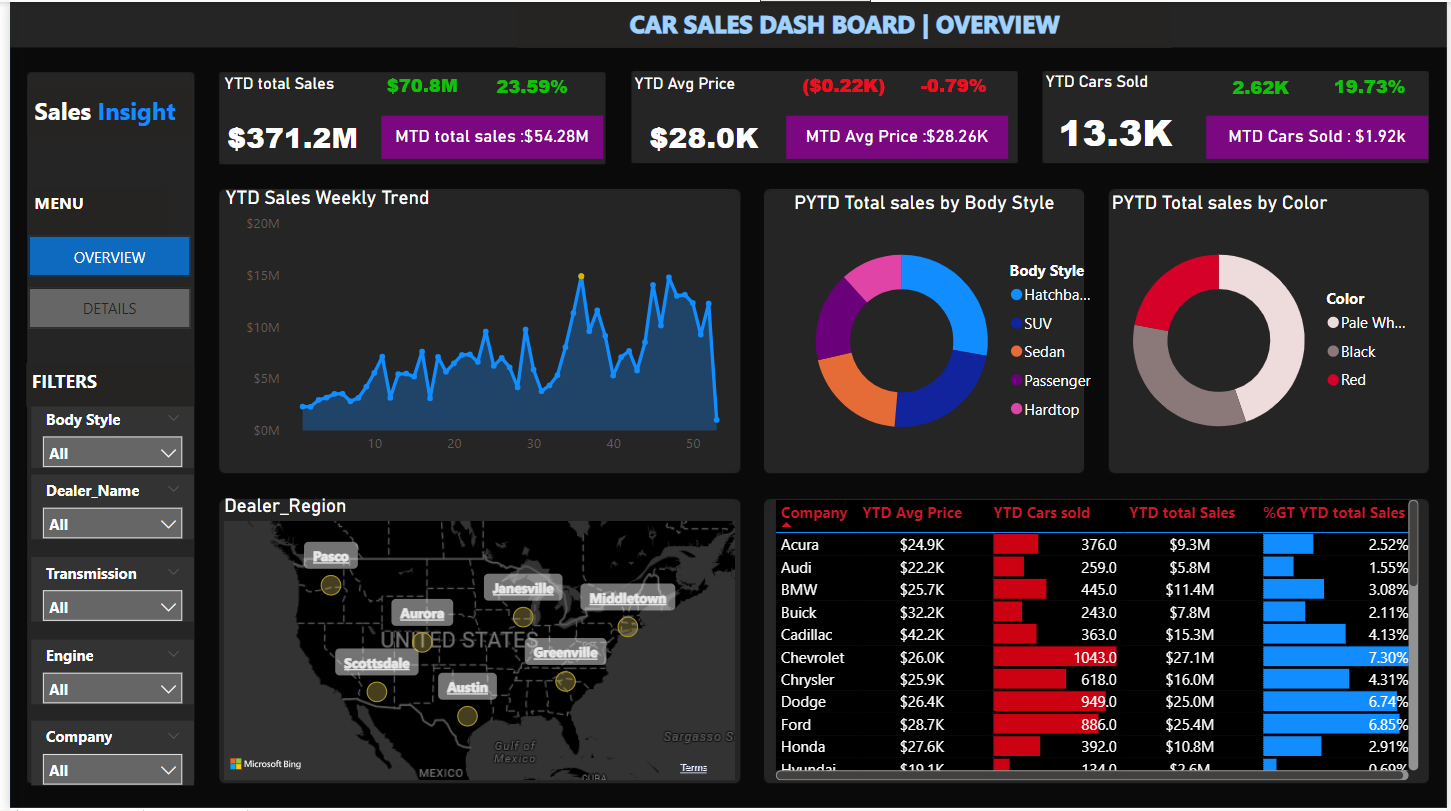

What the dashboard file says about the page in this screenshot:
{"tool":"powerbi","page":{"name":"OVERVIEW","canvas":[1280,720],"ordinal":0},"visuals":[{"type":"card","title":"YTD total Sales","fields":{"Values":["car_data.YTD total Sales"]},"box":[185.7,63.6,132.1,99.7],"z":0},{"type":"card","fields":{"Values":["car_data.sales Difference"]},"box":[318.4,62.7,97.7,27.7],"z":1000},{"type":"card","fields":{"Values":["car_data.YOY sales Growth"]},"box":[416.1,63.9,97.7,27.7],"z":2000},{"type":"card","fields":{"Values":["car_data.MTD KPI"]},"box":[330.5,101.3,197.8,38.6],"z":3000},{"type":"card","title":"YTD Avg Price","fields":{"Values":["car_data.YTD Avg Price"]},"box":[551,63.6,134.6,99.7],"z":4000},{"type":"card","fields":{"Values":["car_data.Avg Price Diff"]},"box":[693.5,62.7,97.7,27.7],"z":5000},{"type":"card","fields":{"Values":["car_data.YOY avg Price Growth"]},"box":[791.2,62.7,97.7,27.7],"z":6000},{"type":"card","fields":{"Values":["car_data.MTD Avg Price KPI"]},"box":[691.1,101.3,197.8,38.6],"z":7000},{"type":"card","title":"YTD  Cars Sold","fields":{"Values":["car_data.YTD Cars sold"]},"box":[917.5,62.3,134.6,92.2],"z":8000},{"type":"card","fields":{"Values":["car_data.Cars Sold Diif"]},"box":[1064.6,63.6,97.2,28.7],"z":9000},{"type":"card","fields":{"Values":["calander table.YOY Car Sold growth"]},"box":[1161.4,63.9,97.7,27.7],"z":10000},{"type":"card","fields":{"Values":["calander table.MTD Cars sold KPI"]},"box":[1064.9,101.3,197.8,38.6],"z":11000},{"type":"areaChart","title":"YTD Sales Weekly Trend","fields":{"Category":["calander table.week"],"Y":["Sum(car_data.Price ($))","car_data.Max Point"]},"box":[186.4,163.1,464.5,257.9],"z":12000},{"type":"donutChart","fields":{"Category":["car_data.Body Style"],"Y":["car_data.PYTD Total sales"]},"box":[693.5,167.6,284.6,248.4],"z":13000},{"type":"donutChart","fields":{"Y":["car_data.PYTD Total sales"],"Category":["car_data.Color"]},"box":[975.5,167.7,283.9,247.7],"z":14000},{"type":"waterfallChart","fields":{"Category":["car_data.Dealer_Region"],"Y":["CountNonNull(car_data.Gender)"]},"box":[185.8,438.7,464.5,259.4],"z":15000},{"type":"tableEx","fields":{"Values":["car_data.Company","car_data.YTD Avg Price","car_data.YTD Cars sold","car_data.YTD total Sales1","car_data.YTD total Sales"]},"box":[675.4,439,583.7,259.3],"z":16000},{"type":"textbox","box":[452.3,0,582.5,41],"z":17000},{"type":"slicer","fields":{"Values":["car_data.Body Style"]},"box":[19.3,357,144.7,57.9],"z":18000},{"type":"slicer","fields":{"Values":["car_data.Dealer_Name"]},"box":[19.3,420.9,144.7,57.9],"z":19000},{"type":"slicer","fields":{"Values":["car_data.Transmission"]},"box":[19.3,494.5,144.7,57.9],"z":20000},{"type":"slicer","fields":{"Values":["car_data.Engine"]},"box":[19.3,568,144.7,57.9],"z":21000},{"type":"textbox","box":[14.5,322,149.5,38.6],"z":22000},{"type":"textbox","box":[16.9,77.2,144.7,43.4],"z":23000},{"type":"textbox","box":[16.9,164,123,44.6],"z":24000},{"type":"pageNavigator","box":[16.9,208.6,144.7,83.2],"z":25000},{"type":"slicer","fields":{"Values":["car_data.Company"]},"box":[19.3,640.4,144.7,57.9],"z":26000}]}

Visuals, with their boxes in screenshot pixels (x1, y1, x2, y2), scaled from the page's 1280x720 canvas onto the 1451x811 screenshot:
"YTD total Sales" card: bbox=(211, 72, 360, 184)
card - car_data.sales Difference: bbox=(361, 71, 472, 102)
card - car_data.YOY sales Growth: bbox=(472, 72, 582, 103)
card - car_data.MTD KPI: bbox=(375, 114, 599, 158)
"YTD Avg Price" card: bbox=(625, 72, 777, 184)
card - car_data.Avg Price Diff: bbox=(786, 71, 897, 102)
card - car_data.YOY avg Price Growth: bbox=(897, 71, 1008, 102)
card - car_data.MTD Avg Price KPI: bbox=(783, 114, 1008, 158)
"YTD  Cars Sold" card: bbox=(1040, 70, 1193, 174)
card - car_data.Cars Sold Diif: bbox=(1207, 72, 1317, 104)
card - calander table.YOY Car Sold growth: bbox=(1317, 72, 1427, 103)
card - calander table.MTD Cars sold KPI: bbox=(1207, 114, 1431, 158)
"YTD Sales Weekly Trend" areaChart: bbox=(211, 184, 738, 474)
donutChart - car_data.Body Style x car_data.PYTD Total sales: bbox=(786, 189, 1109, 469)
donutChart - car_data.PYTD Total sales x car_data.Color: bbox=(1106, 189, 1428, 468)
waterfallChart - car_data.Dealer_Region x CountNonNull(car_data.Gender): bbox=(211, 494, 737, 786)
tableEx - car_data.Company x car_data.YTD Avg Price: bbox=(766, 494, 1427, 787)
textbox: bbox=(513, 0, 1173, 46)
slicer - car_data.Body Style: bbox=(22, 402, 186, 467)
slicer - car_data.Dealer_Name: bbox=(22, 474, 186, 539)
slicer - car_data.Transmission: bbox=(22, 557, 186, 622)
slicer - car_data.Engine: bbox=(22, 640, 186, 705)
textbox: bbox=(16, 363, 186, 406)
textbox: bbox=(19, 87, 183, 136)
textbox: bbox=(19, 185, 159, 235)
pageNavigator: bbox=(19, 235, 183, 329)
slicer - car_data.Company: bbox=(22, 721, 186, 787)
